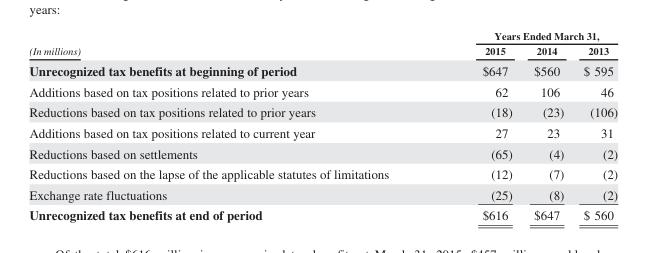table: (28, 29, 617, 222)
table column: (28, 29, 434, 222), (434, 29, 522, 222), (522, 29, 573, 222), (573, 29, 617, 222)
table column header: (28, 29, 617, 59)
table row: (28, 59, 617, 80), (28, 80, 617, 101), (28, 101, 617, 122), (28, 142, 617, 163), (28, 163, 617, 184), (28, 122, 617, 142), (28, 184, 617, 204), (28, 204, 617, 222), (28, 42, 617, 59), (28, 29, 617, 42)
table spanning cell: (28, 29, 434, 59), (434, 29, 617, 42)
